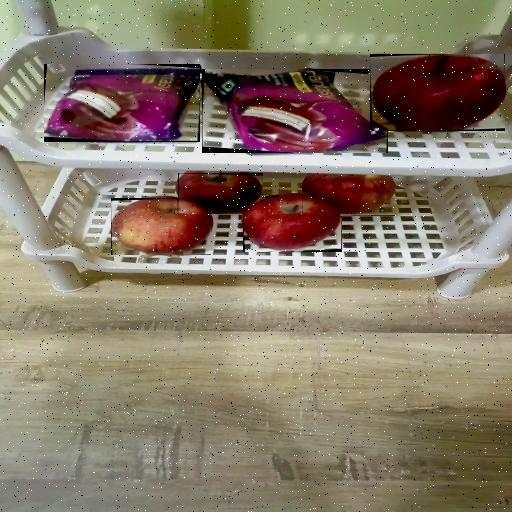Apple: (370, 54, 505, 131), (112, 198, 212, 255), (243, 196, 342, 252), (302, 176, 396, 216), (178, 173, 263, 214)
Choco Pie: (202, 69, 388, 153), (44, 64, 200, 142)
